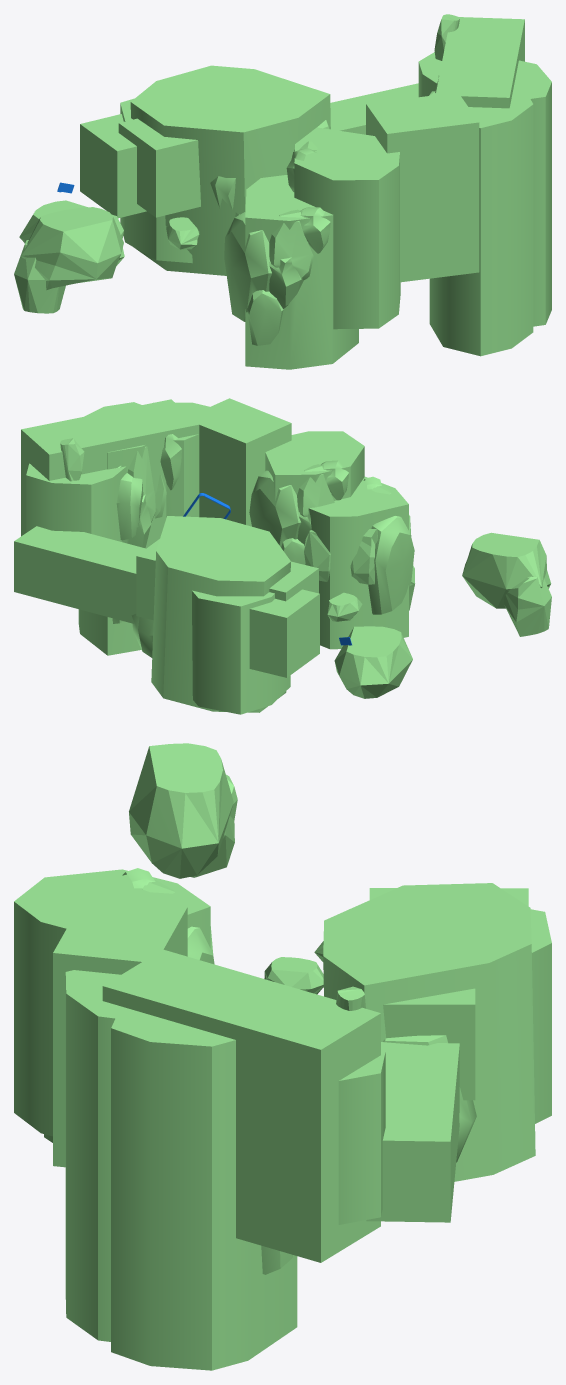
The picture shows the model from 3 angles, top to bottom: view 1: azimuth 30°, elevation 25°; view 2: azimuth 150°, elevation 25°; view 3: azimuth 270°, elevation 25°; orthographic projection. The views are drawn at different scales.
Visible parts, largest first — view 1: testclif__2_, testclif__1_, testclif__6_, Cube__8_, testclif, Cube__6_, pCube376__1_, testclif__5_, Cube__1_, Cube, testclif__3_, Cube__7_ (+5 smaller); view 2: testclif__2_, testclif__1_, testclif, Cube__7_, Cube__6_, testclif__3_, Cube__8_, testclif__4_, Cube, pCube376__1_, pCube376__4_, testclif__5_ (+7 smaller); view 3: testclif__5_, Cube__6_, testclif__2_, testclif__6_, testclif, Cube__7_, pCube376__1_, Cube__8_, testclif__4_, Cube__1_, testclif__3_, pCube376__5_ (+1 smaller).
Part boxes in pixels (x1,y1,x2,y2): testclif__2_: [130, 65, 330, 275]; testclif__1_: [224, 175, 358, 369]; testclif__6_: [429, 86, 533, 356]; Cube__8_: [366, 92, 479, 282]; testclif: [286, 127, 400, 329]; Cube__6_: [435, 17, 524, 108]; pCube376__1_: [21, 207, 123, 290]; testclif__5_: [435, 60, 551, 326]; Cube__1_: [118, 118, 200, 217]; Cube: [80, 114, 146, 218]; testclif__3_: [120, 98, 235, 263]; Cube__7_: [330, 83, 418, 134]; testclif__2_: [131, 516, 290, 712]; testclif__1_: [304, 476, 415, 649]; testclif: [249, 431, 364, 564]; Cube__7_: [14, 526, 145, 623]; Cube__6_: [21, 399, 199, 548]; testclif__3_: [192, 590, 290, 714]; Cube__8_: [185, 398, 291, 526]; testclif__4_: [26, 463, 143, 541]; Cube: [249, 589, 319, 677]; pCube376__1_: [462, 532, 551, 608]; pCube376__4_: [334, 626, 412, 698]; testclif__5_: [78, 402, 155, 655]; testclif__5_: [111, 1006, 297, 1370]; Cube__6_: [102, 949, 380, 1262]; testclif__2_: [323, 883, 535, 1181]; testclif__6_: [65, 970, 120, 1341]; testclif: [14, 868, 214, 1136]; Cube__7_: [366, 1042, 459, 1222]; pCube376__1_: [129, 743, 233, 878]; Cube__8_: [53, 897, 187, 1167]; testclif__4_: [338, 1048, 385, 1224]; Cube__1_: [369, 888, 475, 1100]; testclif__3_: [530, 909, 551, 1123]; pCube376__5_: [264, 957, 323, 994].
Bounding box in the file's own units: 14011 × 6060 × 8365.
